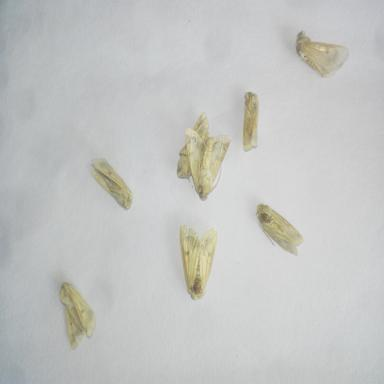abw: (182, 121, 234, 204), (177, 220, 221, 304), (56, 278, 101, 352), (292, 27, 352, 82), (170, 106, 212, 184), (252, 200, 306, 260), (85, 153, 135, 213), (240, 88, 262, 156)
